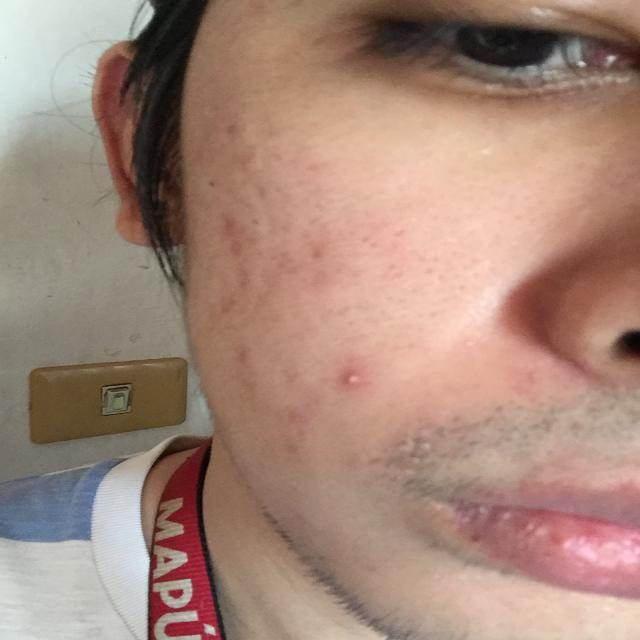blackheads: (334, 364, 370, 390)
